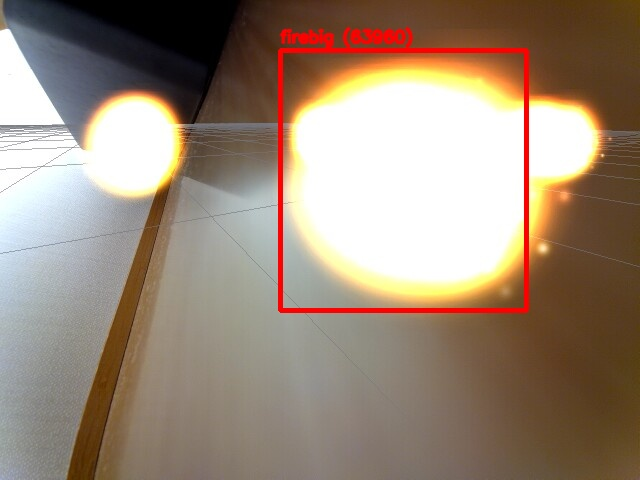firebig: (280, 50, 526, 310)
